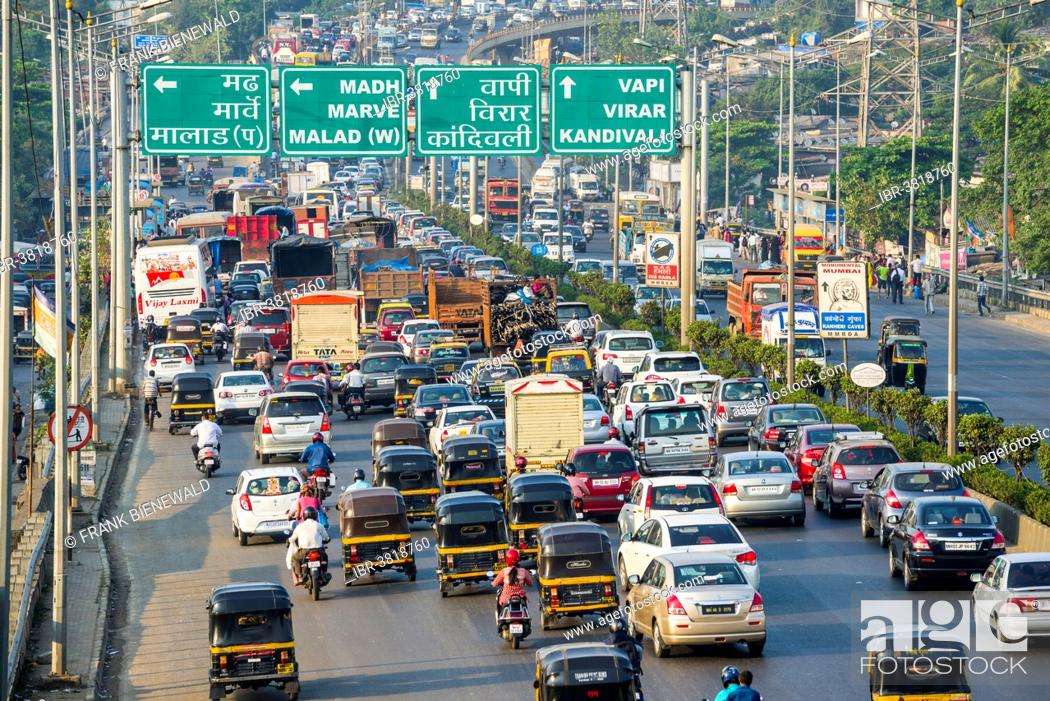bike: (492, 547, 532, 650), (290, 514, 336, 601), (305, 434, 332, 495), (195, 414, 222, 474), (340, 365, 365, 419), (211, 317, 228, 359), (140, 312, 155, 344), (583, 219, 595, 238)
bus: (140, 247, 209, 309), (784, 221, 826, 266), (611, 192, 666, 226), (534, 169, 558, 203)
car: (634, 551, 768, 652), (891, 498, 1006, 566), (710, 453, 809, 514), (637, 517, 754, 568), (638, 409, 722, 470), (819, 434, 891, 505), (981, 560, 1050, 632), (564, 441, 643, 500), (627, 479, 720, 523), (237, 467, 301, 530), (263, 389, 325, 449), (864, 469, 962, 505), (713, 378, 775, 429), (601, 324, 654, 372), (760, 405, 816, 444), (359, 352, 405, 399), (220, 369, 265, 417), (637, 346, 704, 376), (618, 381, 674, 413), (152, 341, 186, 385), (662, 294, 708, 324), (539, 230, 574, 265), (584, 394, 610, 441), (679, 374, 721, 403), (556, 298, 586, 337), (599, 254, 638, 284), (628, 280, 668, 308), (280, 363, 327, 382), (377, 310, 403, 334)
left turn: (151, 72, 178, 99), (290, 78, 319, 99)
rickshaw: (197, 581, 302, 701), (331, 489, 420, 579), (538, 523, 619, 620), (433, 499, 508, 587), (877, 630, 967, 698), (532, 649, 629, 697), (377, 444, 441, 505), (442, 435, 499, 486), (510, 478, 567, 527), (171, 374, 216, 426), (884, 336, 928, 388), (393, 362, 434, 405), (377, 417, 424, 450), (165, 317, 204, 351), (231, 331, 263, 370), (881, 314, 919, 335), (721, 223, 749, 242), (565, 200, 585, 219)
truck: (500, 375, 586, 462), (293, 291, 362, 364), (729, 272, 817, 313), (274, 241, 336, 296), (436, 269, 487, 321), (368, 246, 417, 296), (698, 241, 731, 292), (489, 179, 521, 217), (210, 238, 241, 270)
